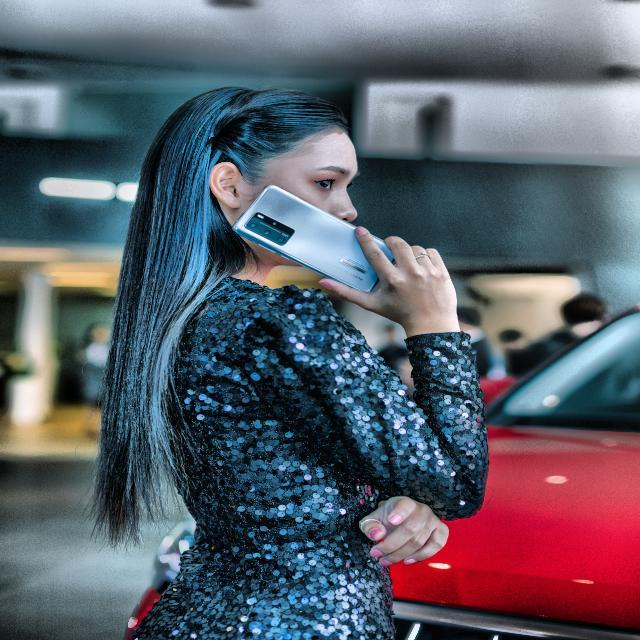Phone: (232, 184, 397, 295)
